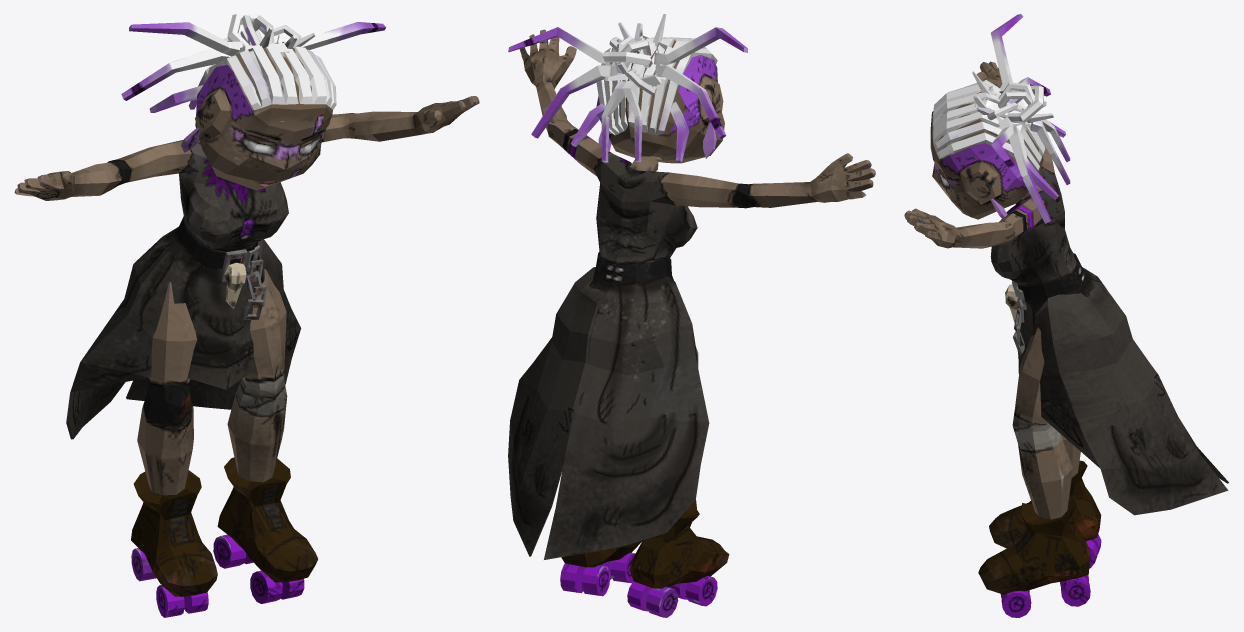
File: bruja_000152.obj
3 renders of one model, left to right at view 1: azimuth 30°, elevation 25°; view 2: azimuth 150°, elevation 25°; view 3: azimuth 270°, elevation 25°, orthographic. The views are drawn at different scales.
Parts seen in each view (by area): view 1: Bruja_Plane.001; view 2: Bruja_Plane.001; view 3: Bruja_Plane.001.
Boxes of the visible parts, x1,y1,x2,y2 form: Bruja_Plane.001: (14,14,479,617); Bruja_Plane.001: (508,14,875,617); Bruja_Plane.001: (904,14,1228,617).
Bounding box in the file's own units: 11.94 × 16.6 × 9.12.
